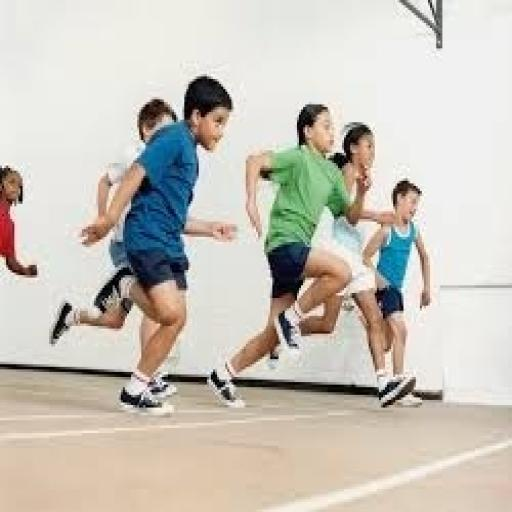running: (47, 71, 240, 418), (0, 155, 41, 395)
